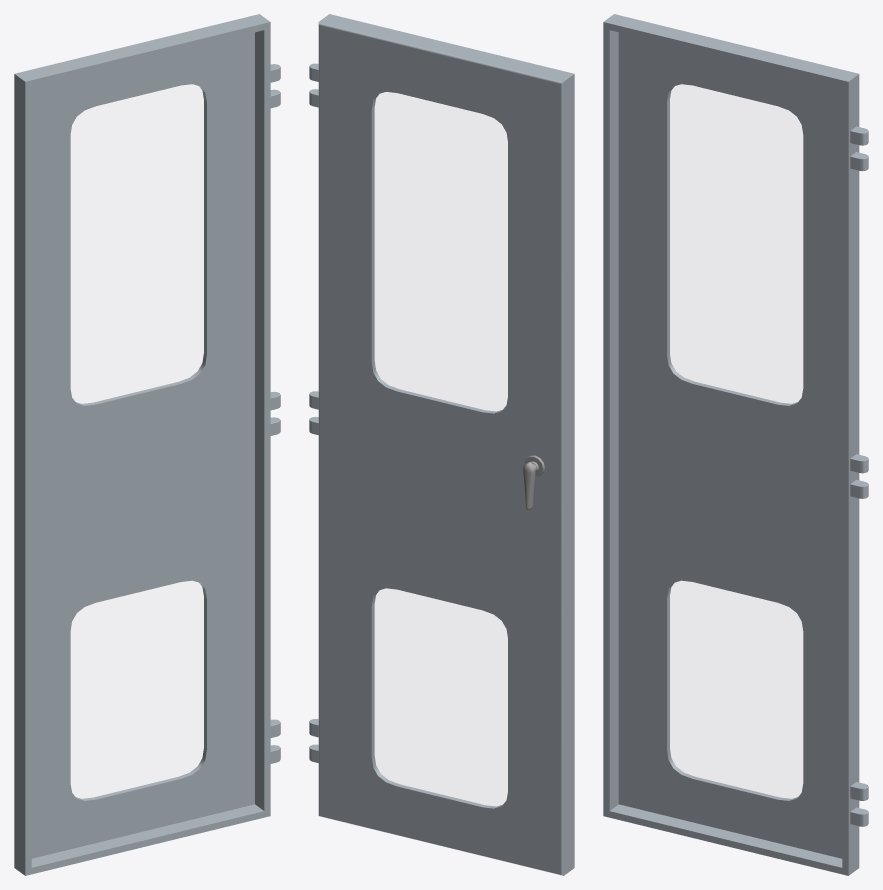
The model's file is VCB_BACK_DOOR1.fbx.
The picture shows the model from 3 angles, left to right: view 1: azimuth 30°, elevation 25°; view 2: azimuth 150°, elevation 25°; view 3: azimuth 330°, elevation 25°; orthographic projection.
Visible parts, largest first — view 1: VCB_BACK_DOOR2; view 2: VCB_BACK_DOOR2; view 3: VCB_BACK_DOOR2.
Boxes of the visible parts, bbox=[...] form: VCB_BACK_DOOR2: bbox=[14, 14, 280, 875]; VCB_BACK_DOOR2: bbox=[309, 14, 574, 875]; VCB_BACK_DOOR2: bbox=[603, 14, 868, 875].
Size of the model in its own units: 0.6334 by 1.85 by 0.0875.
2 materials, 1 textured.
